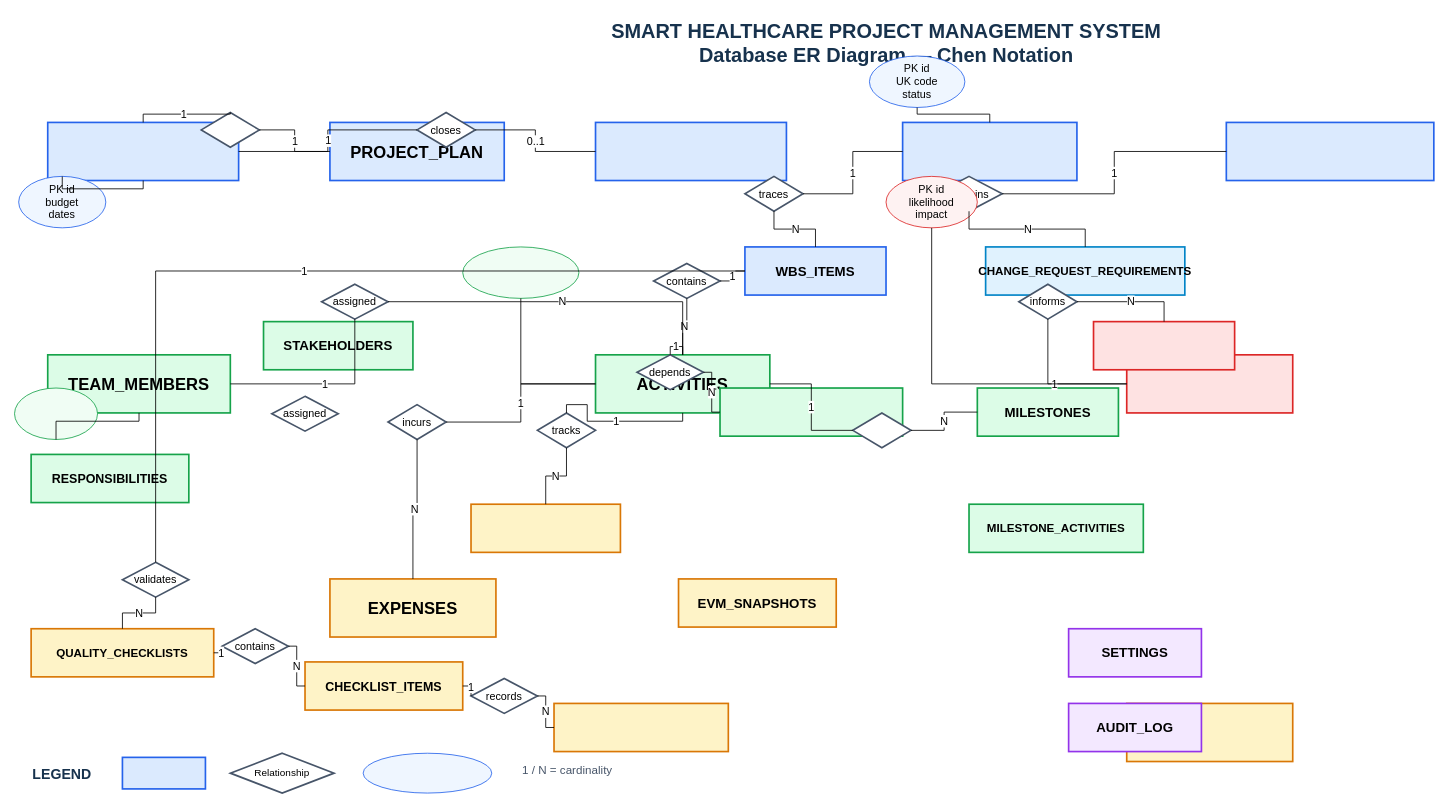
This 1449x808 diagram has some shape labels left out. The shapes that lost their labels are listed below. From the top down, each one's box as (x1, y1, x2, y2) in pixels, then its label:
(200, 111, 260, 148): authorizes
(46, 121, 239, 181): PROJECT_CHARTER
(594, 121, 787, 181): PROJECT_CLOSURE
(901, 121, 1077, 181): REQUIREMENTS
(1225, 121, 1434, 181): CHANGE_REQUESTS
(462, 246, 579, 298): PK id FK wbs_item_id status
(1092, 320, 1235, 370): PDPC_ITEMS
(1125, 354, 1293, 413): RISKS
(14, 387, 98, 439): PK id name role
(719, 387, 903, 437): ACTIVITY_DEPENDENCIES
(852, 412, 911, 448): reaches
(470, 503, 621, 553): PROGRESS_LOG
(553, 702, 729, 752): INSPECTION_RESULTS
(1125, 702, 1293, 762): DEFECTS
(121, 756, 206, 789): Entity
(362, 752, 492, 793): PK / FK attributes
